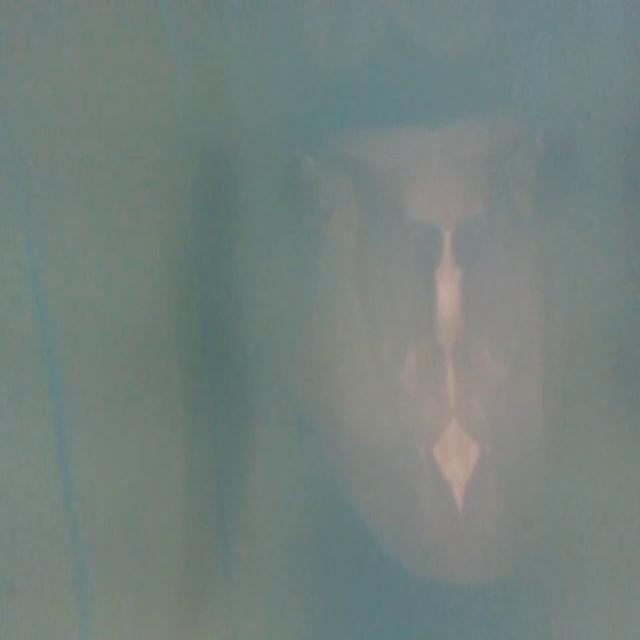plastic bags: (281, 119, 542, 593)
